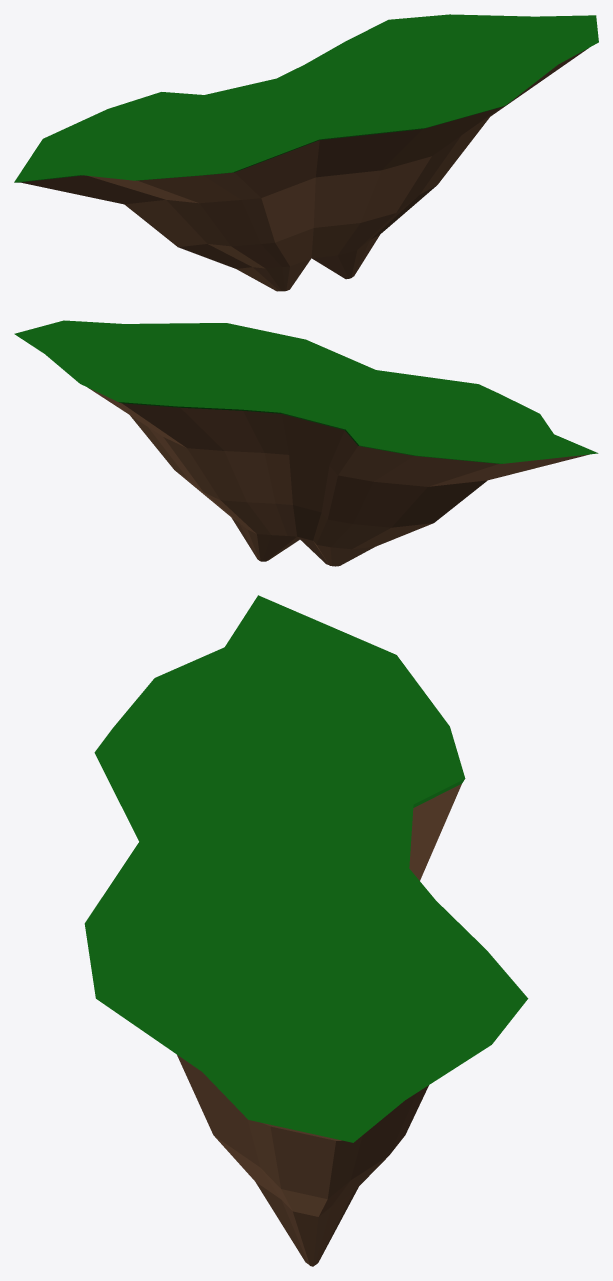
The model's file is island 3.glb.
3 renders of one model, top to bottom at view 1: azimuth 30°, elevation 25°; view 2: azimuth 150°, elevation 25°; view 3: azimuth 270°, elevation 25°, orthographic. The views are drawn at different scales.
Visible parts, largest first — view 1: Vert.001, Vert; view 2: Vert.001, Vert; view 3: Vert.001, Vert.
Boxes of the visible parts, box(x1,y1,x2,y2) form: Vert.001: box(14, 14, 598, 182); Vert: box(20, 48, 588, 291); Vert.001: box(14, 320, 598, 463); Vert: box(88, 388, 589, 566); Vert.001: box(84, 595, 528, 1142); Vert: box(177, 784, 461, 1266).
Bounding box in the file's own units: 15.43 × 4.62 × 5.28.
